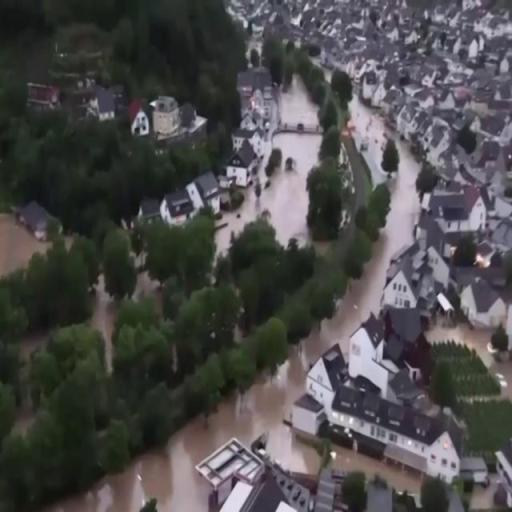flood: (40, 97, 421, 512), (217, 129, 320, 252), (431, 324, 512, 400), (332, 447, 422, 496), (0, 214, 48, 276), (90, 284, 116, 364), (281, 79, 318, 128), (471, 486, 496, 512), (137, 273, 158, 296)
house: (191, 438, 296, 512), (132, 92, 208, 150), (430, 180, 486, 240), (461, 275, 506, 333), (308, 345, 350, 396), (426, 422, 462, 477), (381, 260, 419, 306), (352, 311, 386, 358), (420, 240, 453, 283), (227, 144, 255, 188), (192, 172, 222, 212), (90, 86, 118, 122), (166, 187, 192, 223), (250, 86, 274, 119), (371, 80, 387, 107)
